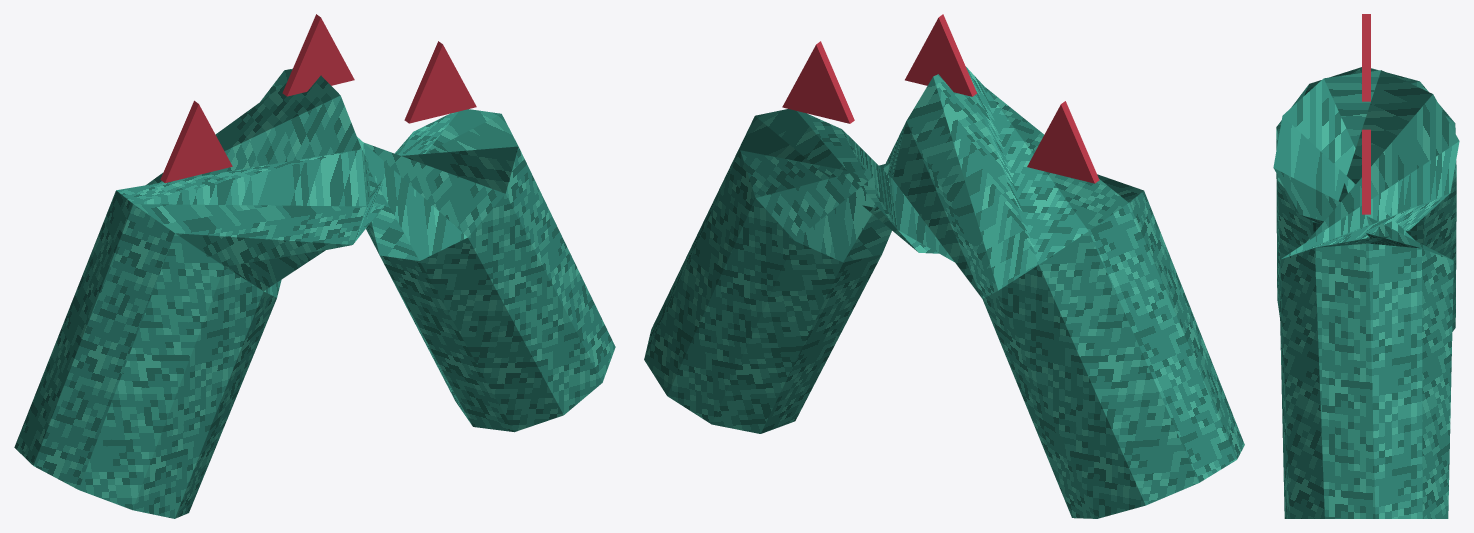
Rendered from serpent_hump.glb.
3 renders of one model, left to right at view 1: azimuth 30°, elevation 25°; view 2: azimuth 150°, elevation 25°; view 3: azimuth 270°, elevation 25°, orthographic. The views are drawn at different scales.
Parts seen in each view (by area): view 1: serpent_hump; view 2: serpent_hump; view 3: serpent_hump.
Boxes of the visible parts, bbox=[...] form: serpent_hump: bbox=[14, 14, 615, 518]; serpent_hump: bbox=[644, 14, 1244, 518]; serpent_hump: bbox=[1273, 14, 1459, 518].
Bounding box in the file's own units: 4.24 × 3.15 × 1.22.
2 materials, 1 textured.
